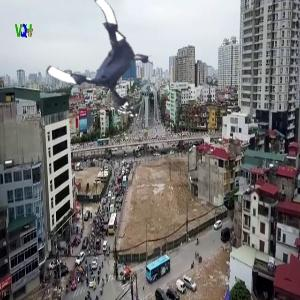drone: (57, 3, 159, 105)
